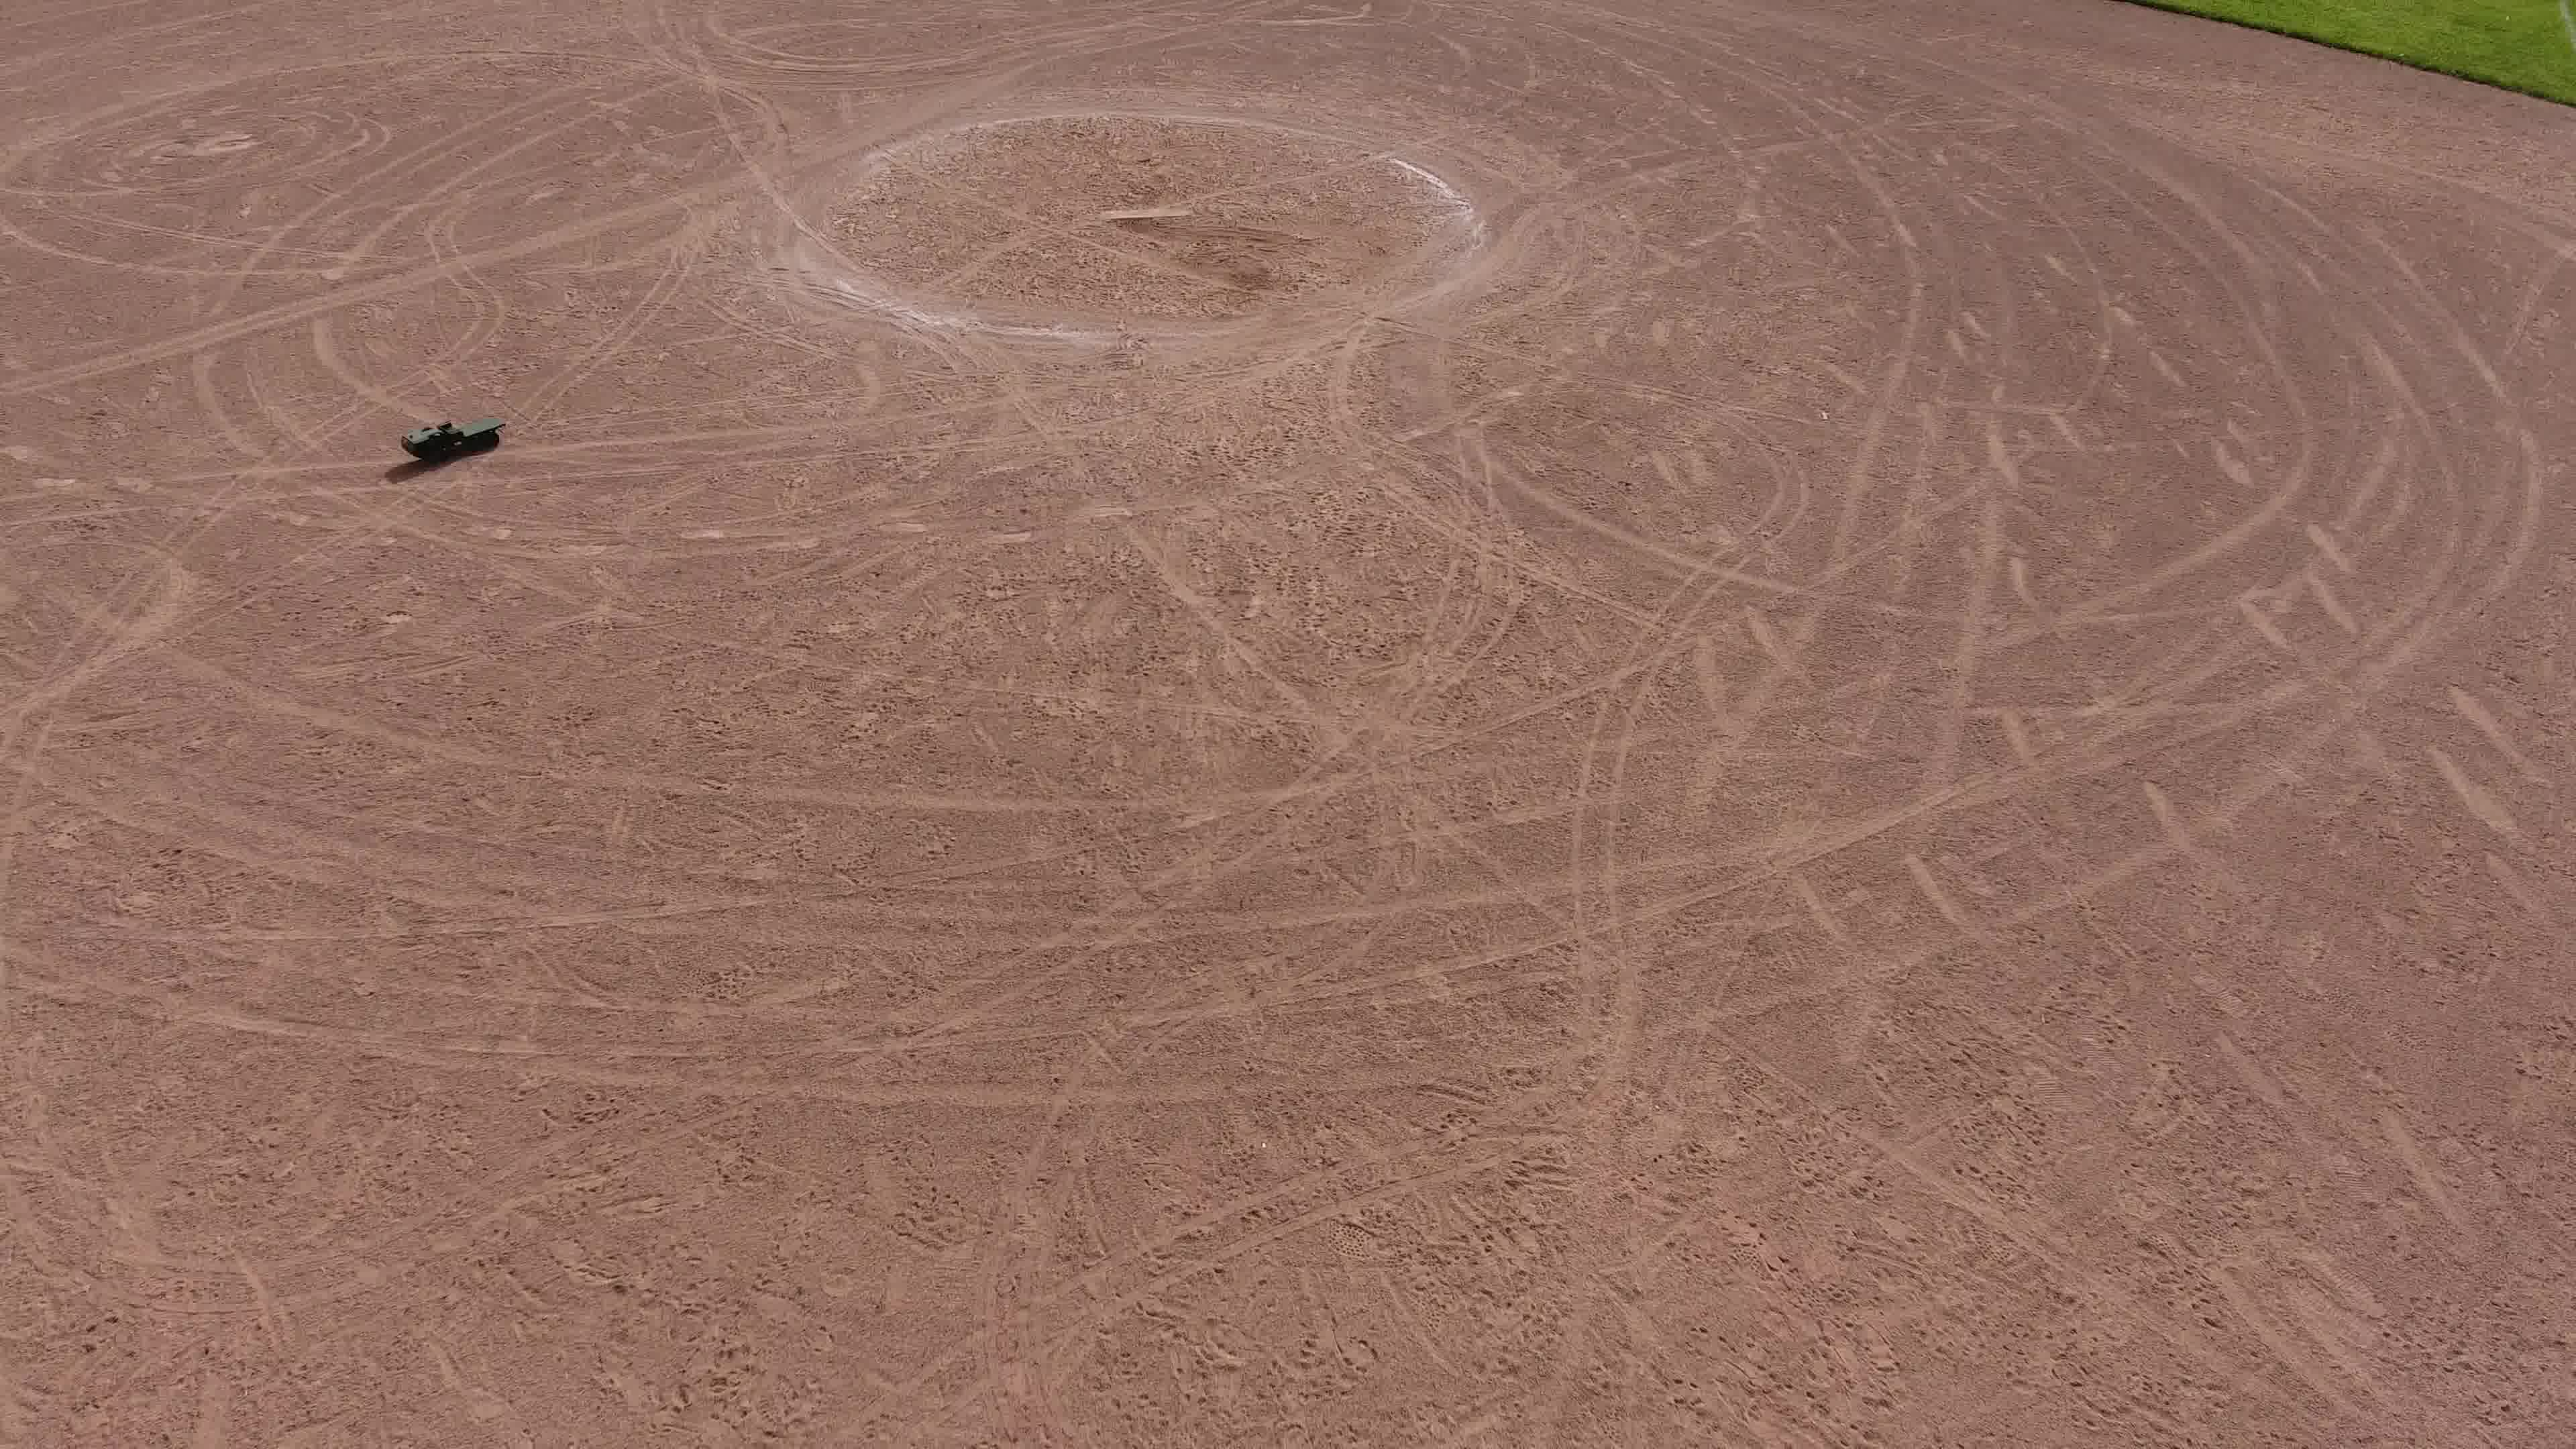transporter9: (396, 410, 508, 460)
